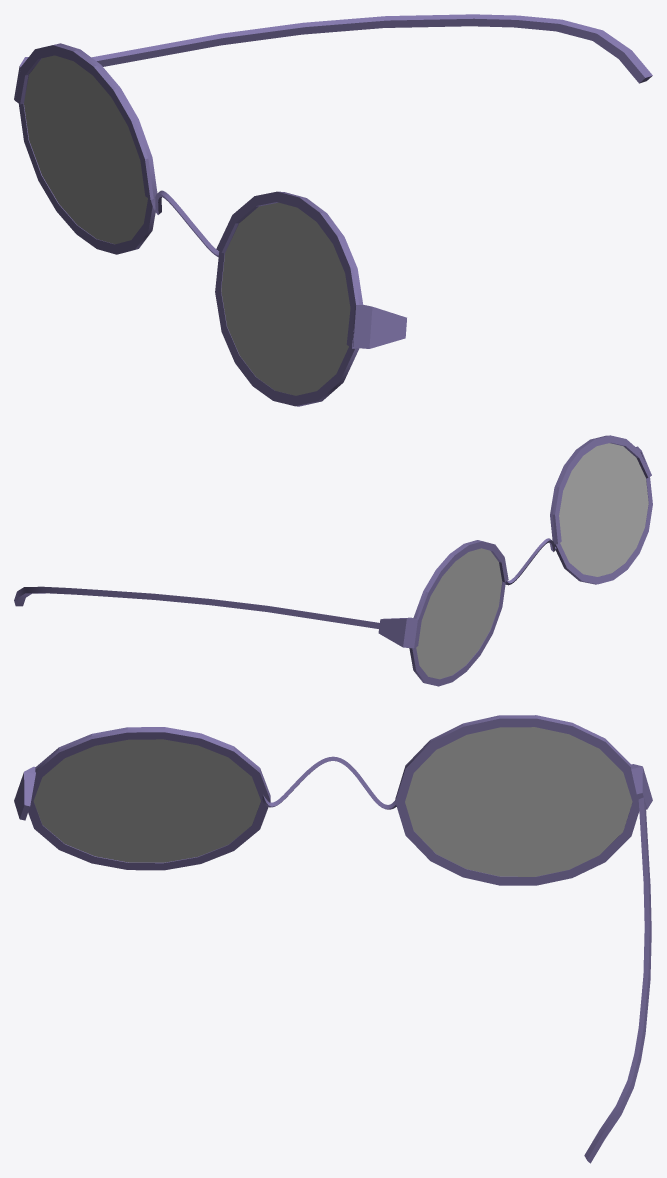
File: Glasses.fbx
The picture shows the model from 3 angles, top to bottom: view 1: azimuth 30°, elevation 25°; view 2: azimuth 150°, elevation 25°; view 3: azimuth 270°, elevation 25°; orthographic projection. The views are drawn at different scales.
Visible parts, largest first — view 1: pCube4; view 2: pCube4; view 3: pCube4.
Boxes of the visible parts, bbox=[...] form: pCube4: bbox=[14, 14, 652, 406]; pCube4: bbox=[14, 435, 652, 686]; pCube4: bbox=[14, 715, 652, 1163].
Size of the model in its own units: 14.25 by 4.28 by 13.71.
